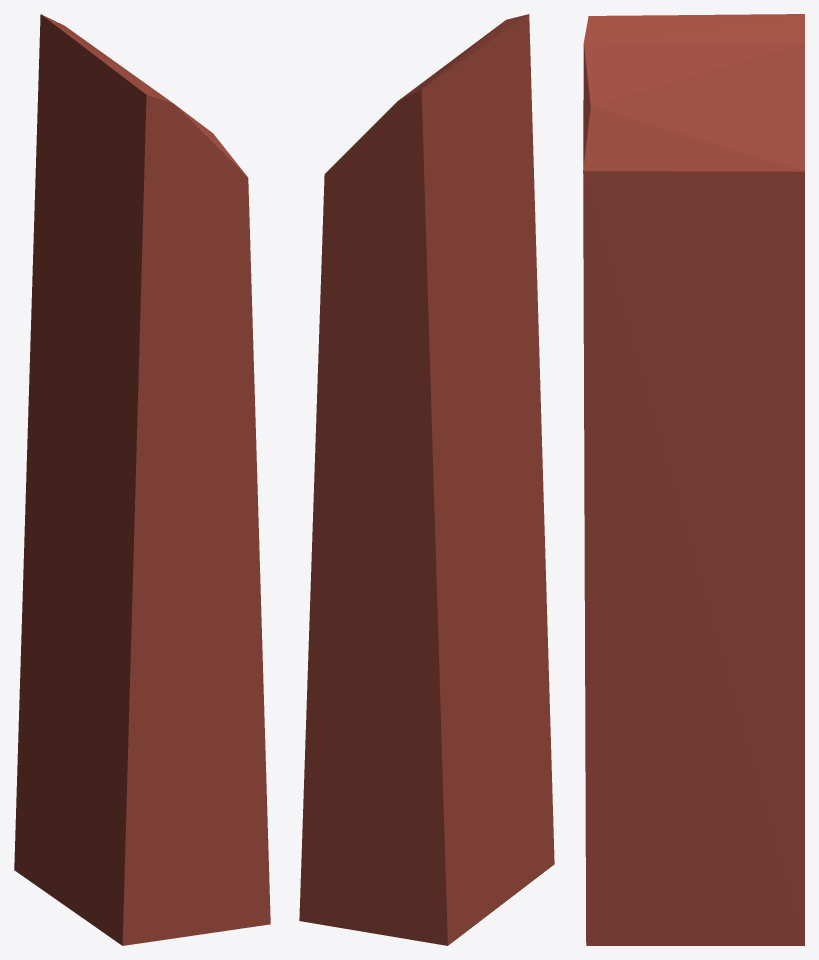
3 renders of one model, left to right at view 1: azimuth 30°, elevation 25°; view 2: azimuth 150°, elevation 25°; view 3: azimuth 270°, elevation 25°, orthographic.
Size of the model in its own units: 1.61 by 8.95 by 2.06.
